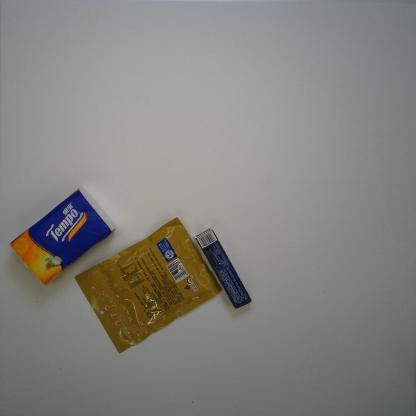Dried Fruit: (73, 216, 224, 355)
Personal Hygiene: (194, 226, 252, 311)
Tissue: (9, 186, 116, 286)
